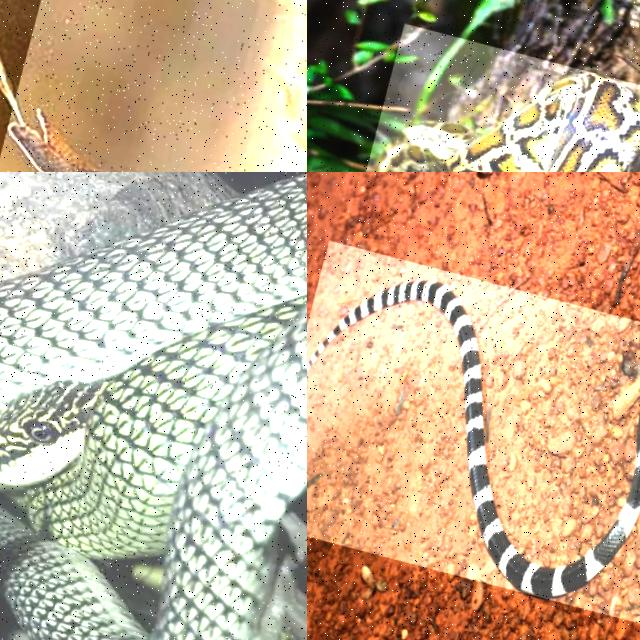Bungarus candidus: (307, 281, 639, 598)
Chrysopelea ornata: (0, 175, 306, 639)
Naja siamensis: (9, 111, 103, 171)
Python bivittatus: (375, 73, 639, 171)
snake: (0, 175, 306, 639), (307, 281, 639, 598), (375, 73, 639, 171), (9, 111, 103, 171)
